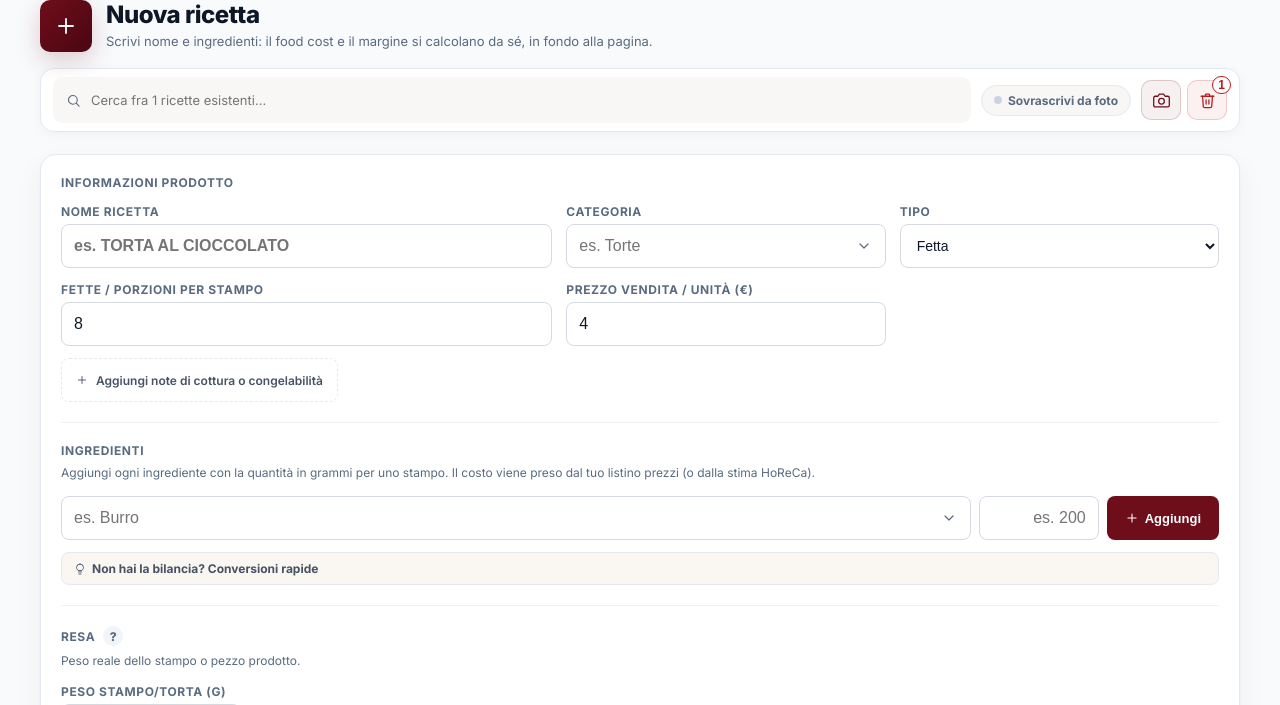
Test: Nuovo gusto - il plurale non cancella il prezzo della materia prima › INTORNO: un nome davvero nuovo continua a fermarsi e a farsi creare
The image size is (1280, 705).
Type "Sciroppo di sambuco" into the dropdown named "nome ingrediente da aggiungere" at point(516, 518), box [61,496,971,540]
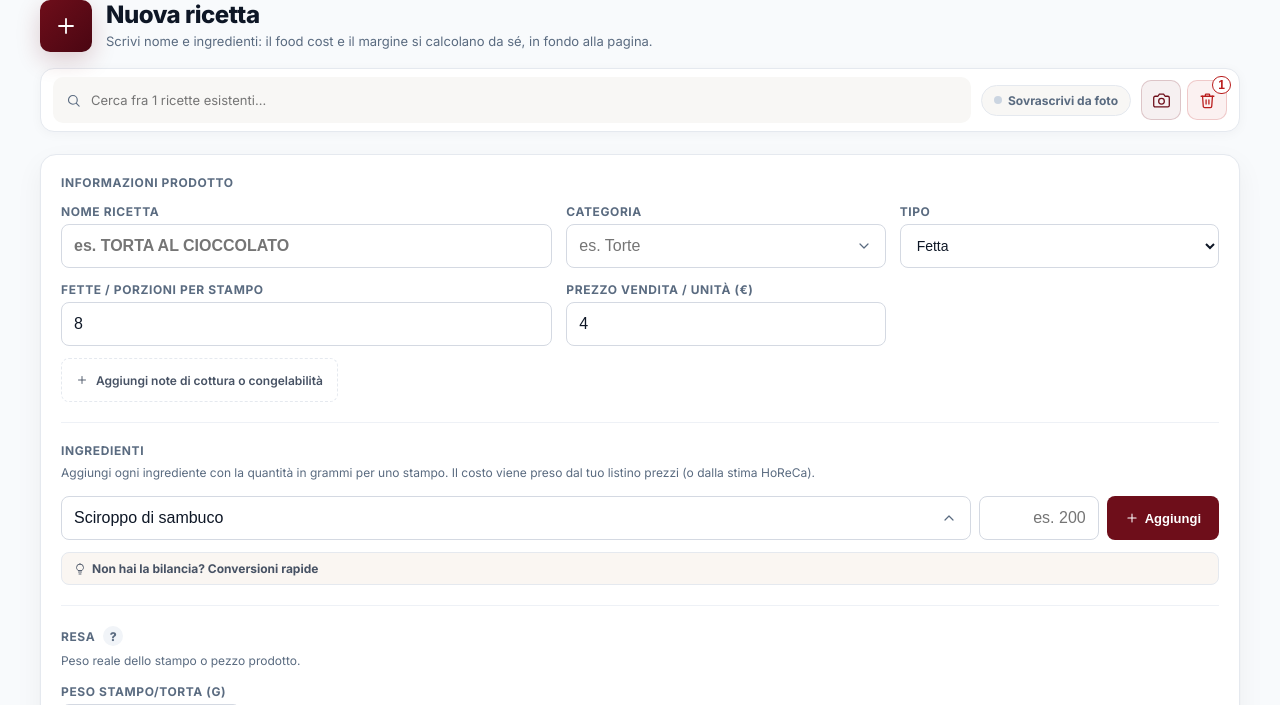
Type "30" into the field named "grammi di ingrediente da aggiungere" at point(1039, 518), box [979,496,1099,540]
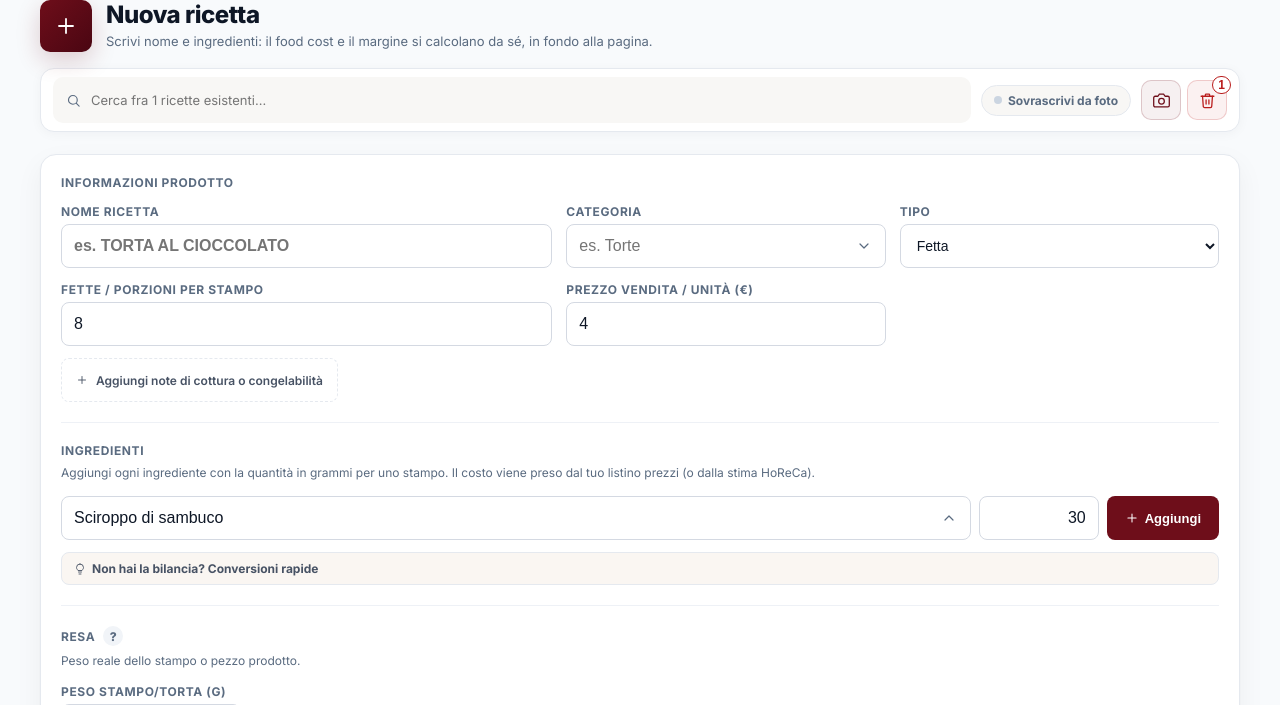
Click the button with aria-label "Aggiungi ingrediente alla ricetta" at point(1163, 518), box [1107,496,1219,540]
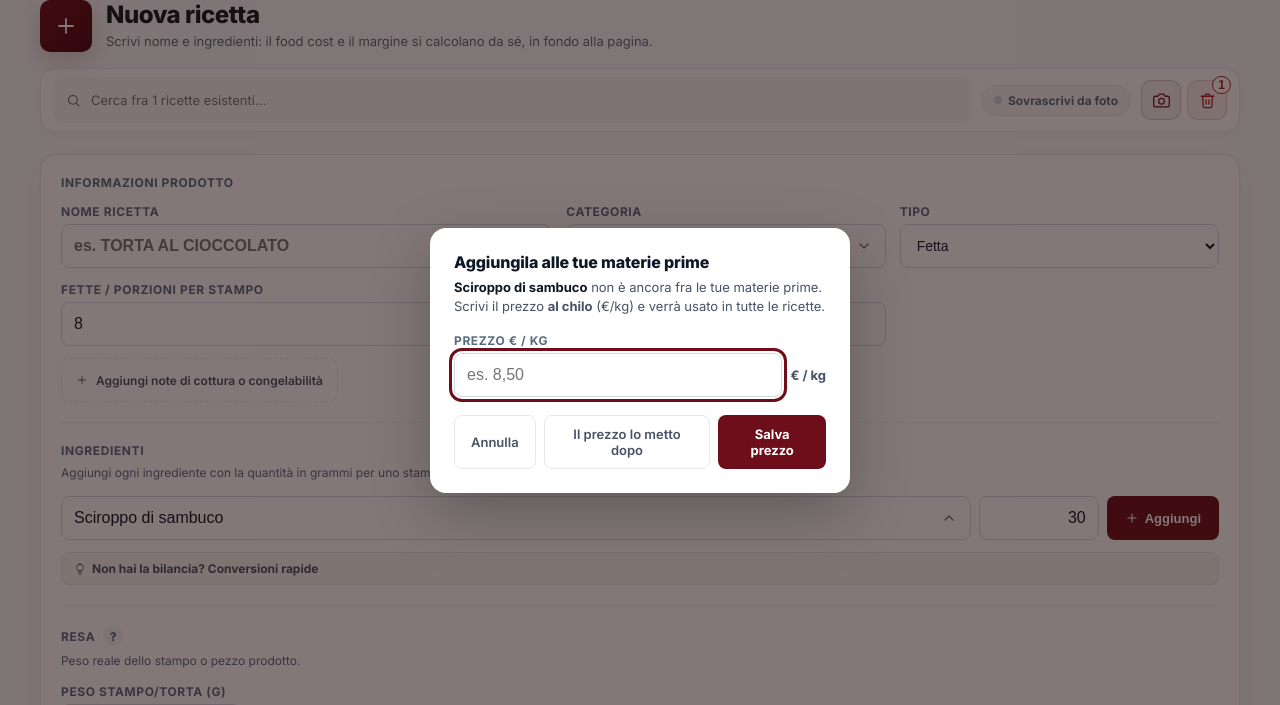
Check: the text "Aggiungila alle tue materie prime" is shown, box [454,252,709,272]
